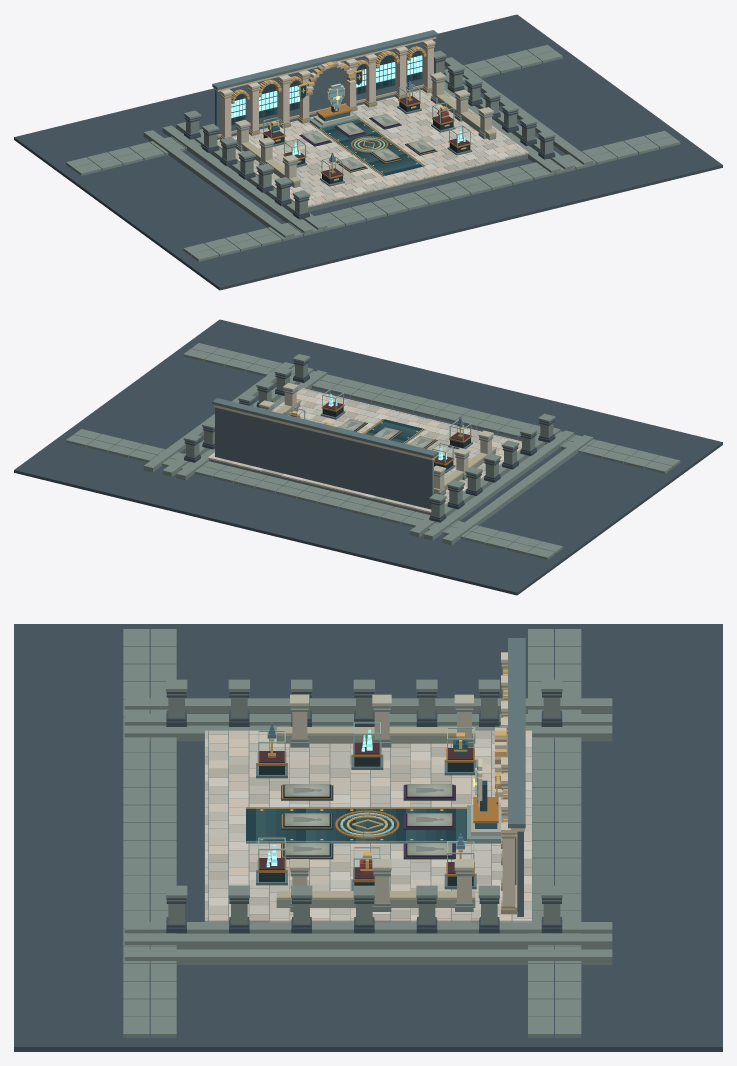
File: silver-shield-exhibition.glb
3 renders of one model, top to bottom at view 1: azimuth 30°, elevation 25°; view 2: azimuth 150°, elevation 25°; view 3: azimuth 270°, elevation 25°, orthographic. The views are drawn at different scales.
Visible parts, largest first — view 1: Outer_Bedrock, Outer_Promenade, Paving, Outer_Piers, Gallery_Columns, Side_Colonnade, Gallery_Wall, Gallery_Cornice, Teal_Runner, Stained_Glass (×2), Windows, Bedrock (+8 smaller); view 2: Outer_Bedrock, Outer_Promenade, Gallery_Wall, Paving, Outer_Piers, Gallery_Cornice, Side_Colonnade, Teal_Runner, Bedrock, Display_Crystals; view 3: Outer_Bedrock, Outer_Promenade, Paving, Outer_Piers, Side_Colonnade, Teal_Runner, Gallery_Cornice, Gallery_Columns, Bedrock, Brass_Inlay, Silver_Shield, Display_Vase (+3 smaller).
Part boxes in pixels (x1,y1,x2,y2): Outer_Bedrock: [14, 14, 722, 290]; Outer_Promenade: [66, 45, 680, 261]; Paving: [217, 90, 528, 207]; Outer_Piers: [183, 50, 555, 219]; Gallery_Columns: [219, 39, 435, 139]; Side_Colonnade: [235, 72, 496, 187]; Gallery_Wall: [215, 39, 433, 139]; Gallery_Cornice: [212, 30, 438, 91]; Teal_Runner: [310, 119, 424, 176]; Stained_Glass (×2): [231, 55, 422, 123]; Windows: [231, 50, 422, 124]; Bedrock: [308, 154, 527, 211]; Outer_Bedrock: [14, 319, 722, 595]; Outer_Promenade: [66, 343, 680, 559]; Gallery_Wall: [215, 407, 433, 509]; Paving: [208, 388, 521, 512]; Outer_Piers: [183, 354, 555, 522]; Gallery_Cornice: [212, 398, 438, 460]; Side_Colonnade: [259, 383, 496, 495]; Teal_Runner: [364, 419, 424, 443]; Bedrock: [209, 459, 431, 514]; Display_Crystals: [320, 402, 455, 473]; Outer_Bedrock: [14, 624, 722, 1051]; Outer_Promenade: [123, 629, 612, 1037]; Paving: [205, 730, 531, 922]; Outer_Piers: [166, 679, 562, 933]; Side_Colonnade: [276, 694, 475, 911]; Teal_Runner: [246, 808, 500, 842]; Gallery_Cornice: [508, 638, 525, 831]; Gallery_Columns: [501, 652, 517, 914]; Bedrock: [204, 733, 532, 921]; Brass_Inlay: [246, 807, 500, 843]; Silver_Shield: [467, 758, 502, 841]; Display_Vase: [351, 732, 476, 890].
Bounding box in the file's own units: 48 × 5.79 × 34.
Materials: 31 (1 with a texture image).
